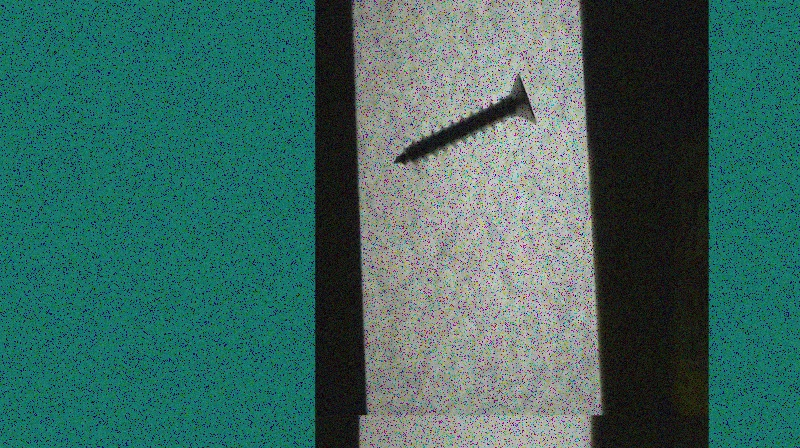O001: (437, 415, 574, 447)
S001: (390, 65, 537, 168)
